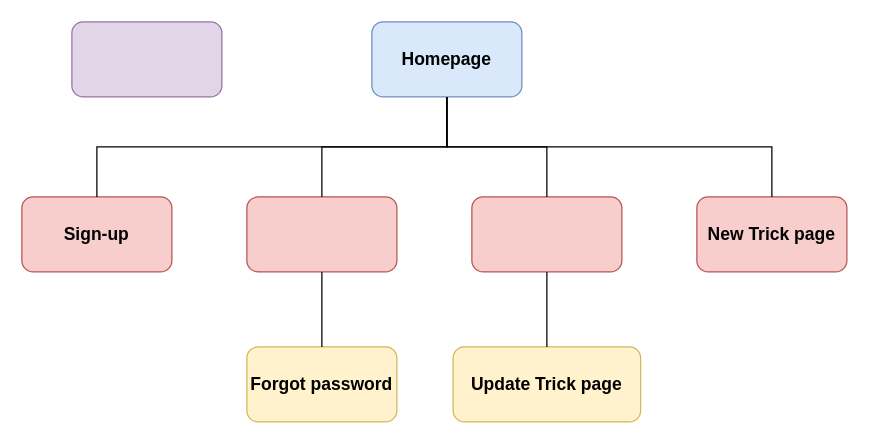
Some shapes in this 869 by 444 pixel diagram are drawn without their labels. The shapes that lost their labels are listed below. From the top down, each one's centre as x and y in pixels, then its label:
At (x=146, y=59): "Reset Password".
At (x=321, y=234): "Sign-in".
At (x=546, y=234): "Trick page".
